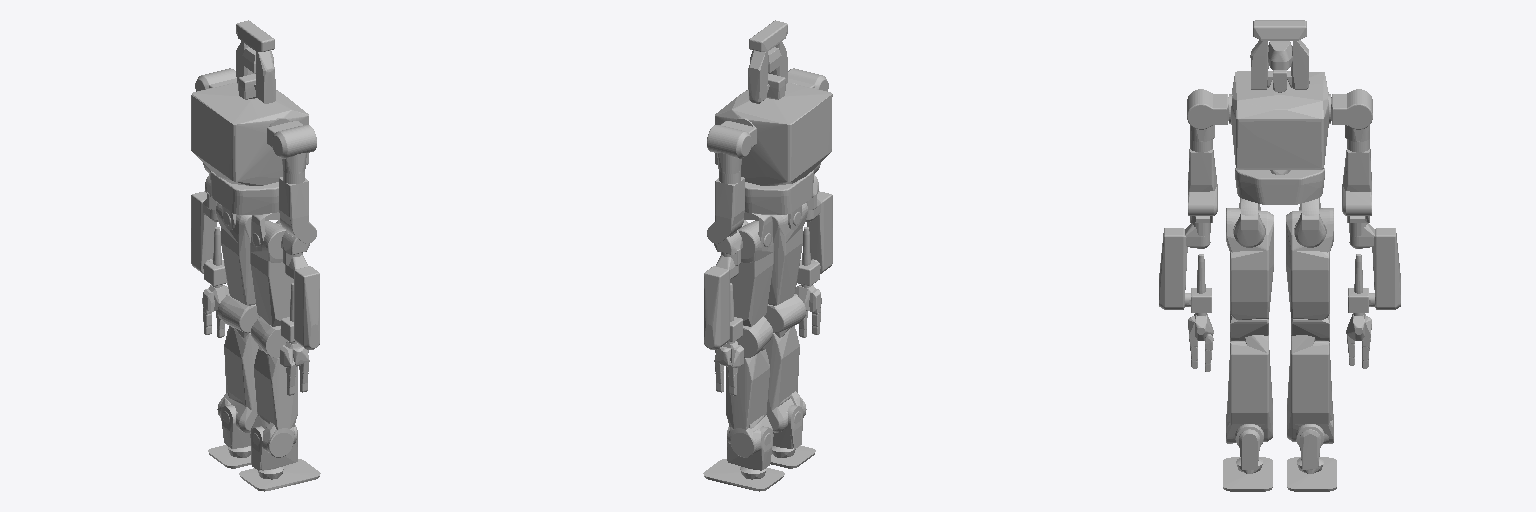
--- Facts derived from the render (not from the file) ---
3 views of the same robot in one strip: view 1: azimuth 30°, elevation 25°; view 2: azimuth 150°, elevation 25°; view 3: azimuth 270°, elevation 25° (orthographic).
Model drchubo with 52 links and 51 joints (51 revolute), rooted at Body_TSY, posed all joints at 0.
Visible links, largest first — view 1: Body_Torso, Body_RHP, Body_LHP, Body_RKP, Body_LKP, Body_RAR, Body_RWY, Body_NK1, Body_TSY, Body_RSY, Body_LWY, Body_RSP (+5 smaller); view 2: Body_Torso, Body_LHP, Body_RHP, Body_LKP, Body_RKP, Body_LAR, Body_LWY, Body_NK1, Body_TSY, Body_LSY, Body_RWY, Body_LSP (+5 smaller); view 3: Body_Torso, Body_LHP, Body_RHP, Body_RKP, Body_LKP, Body_TSY, Body_NK1, Body_LWY, Body_RWY, Body_RAR, Body_LAR, Body_LSY (+10 smaller).
Link boxes in pixels (<box>): Body_Torso: <box>191,82,308,185</box>; Body_RHP: <box>250,221,293,357</box>; Body_LHP: <box>216,203,259,332</box>; Body_RKP: <box>251,345,297,457</box>; Body_LKP: <box>217,326,258,432</box>; Body_RAR: <box>239,425,320,491</box>; Body_RWY: <box>285,255,319,349</box>; Body_NK1: <box>236,20,275,103</box>; Body_TSY: <box>210,170,278,214</box>; Body_RSY: <box>279,171,316,243</box>; Body_LWY: <box>191,191,217,273</box>; Body_RSP: <box>267,118,316,158</box>; Body_Torso: <box>715,83,832,185</box>; Body_LHP: <box>730,221,773,357</box>; Body_RHP: <box>764,203,807,332</box>; Body_LKP: <box>726,345,772,457</box>; Body_RKP: <box>765,326,806,432</box>; Body_LAR: <box>703,426,784,491</box>; Body_LWY: <box>704,255,738,349</box>; Body_NK1: <box>748,20,787,103</box>; Body_TSY: <box>745,170,813,214</box>; Body_LSY: <box>707,171,744,243</box>; Body_RWY: <box>806,191,832,273</box>; Body_LSP: <box>707,118,756,158</box>; Body_Torso: <box>1231,71,1328,174</box>; Body_LHP: <box>1286,208,1333,341</box>; Body_RHP: <box>1226,208,1273,341</box>; Body_RKP: <box>1226,335,1272,443</box>; Body_LKP: <box>1287,335,1333,443</box>; Body_TSY: <box>1235,168,1324,204</box>; Body_NK1: <box>1250,20,1309,89</box>; Body_LWY: <box>1349,223,1400,309</box>; Body_RWY: <box>1159,223,1210,309</box>; Body_RAR: <box>1223,429,1272,491</box>; Body_LAR: <box>1287,429,1336,491</box>; Body_LSY: <box>1342,139,1371,215</box>.
Size in the robot's own frame: 0.2911 by 0.707 by 1.44 metres.
Meshes: 37 distinct files referenced, 52 mesh visuals loaded (37 binary STL).

robot.urdf — drchubo:
<robot name="drchubo">
    <link name="Body_Torso">
        <inertial>
            <origin rpy="0 0 0" xyz="0.00186303110078396 -0.000700932863027737 0.144864941081362" />
            <mass value="8.95351612283643" />
            <inertia ixx="0.097115701663788" ixy="-0.000131502652256357" ixz="-0.000536351319855448" iyy="0.0782182891825729" iyz="0.000190893230363873" izz="0.102805257612153" />
        </inertial>
        <visual>
            <origin rpy="0 0 0" xyz="0 0 0" />
            <geometry>
                <mesh filename="package://drchubo/meshes/convhull_Torso_merged.stl" />
            </geometry>
            <material name="">
                <color rgba="0.752941176470588 0.752941176470588 0.752941176470588 1" />
            </material>
        </visual>
        <collision>
            <origin rpy="0 0 0" xyz="0 0 0" />
            <geometry>
                <mesh filename="package://drchubo/meshes/convhull_Torso_merged.stl" />
            </geometry>
        </collision>
    </link>
    <link name="Body_LSP">
        <inertial>
            <origin rpy="0 0 0" xyz="0.0125095477277756 0.0682567187642331 -0.000101296692959801" />
            <mass value="0.512814669817052" />
            <inertia ixx="0.00105971934903801" ixy="0.000159674623034314" ixz="-8.62192186714616E-07" iyy="0.00101602821932241" iyz="6.2966884306785E-06" izz="0.00161449029531154" />
        </inertial>
        <visual>
            <origin rpy="0 0 0" xyz="0 0 0" />
            <geometry>
                <mesh filename="package://drchubo/meshes/convhull_LSP_merged.stl" />
            </geometry>
            <material name="">
                <color rgba="0.752941176470588 0.752941176470588 0.752941176470588 1" />
            </material>
        </visual>
        <collision>
            <origin rpy="0 0 0" xyz="0 0 0" />
            <geometry>
                <mesh filename="package://drchubo/meshes/convhull_LSP_merged.stl" />
            </geometry>
        </collision>
    </link>
    <joint name="LSP" type="revolute">
        <origin rpy="-0 0 -0" xyz="0.0010 0.1305 0.2061" />
        <parent link="Body_Torso" />
        <child link="Body_LSP" />
        <axis xyz="0 1 0" />
        <limit effort="100.0" lower="-3.14" upper="3.14" velocity="10.0" />
    </joint>
    <link name="Body_LSR">
        <inertial>
            <origin rpy="0 0 0" xyz="-0.0353989625513559 -0.000442459951967733 -0.0177626332998561" />
            <mass value="0.478101234588499" />
            <inertia ixx="0.000470991608414918" ixy="-9.0901553039533E-08" ixz="-1.21957572289795E-05" iyy="0.00056865982747998" iyz="7.94197935321249E-06" izz="0.000377112142444654" />
        </inertial>
        <visual>
            <origin rpy="0 0 0" xyz="0 0 0" />
            <geometry>
                <mesh filename="package://drchubo/meshes/convhull_LSR_merged.stl" />
            </geometry>
            <material name="">
                <color rgba="0.752941176470588 0.752941176470588 0.752941176470588 1" />
            </material>
        </visual>
        <collision>
            <origin rpy="0 0 0" xyz="0 0 0" />
            <geometry>
                <mesh filename="package://drchubo/meshes/convhull_LSR_merged.stl" />
            </geometry>
        </collision>
    </link>
    <joint name="LSR" type="revolute">
        <origin rpy="0 0 0" xyz="0.033 0.099 0" />
        <parent link="Body_LSP" />
        <child link="Body_LSR" />
        <axis xyz="1 0 0" />
        <limit effort="100.0" lower="-.262" upper="3.14" velocity="10.0" />
    </joint>
    <link name="Body_LSY">
        <inertial>
            <origin rpy="0 0 0" xyz="0.00596307108671425 -0.00223165835990308 -0.16200994741112" />
            <mass value="1.35206539449553" />
            <inertia ixx="0.0134777313253687" ixy="-2.51384514257897E-05" ixz="-0.000850780329961022" iyy="0.0134238053664017" iyz="0.000270964573540381" izz="0.00109460289061941" />
        </inertial>
        <visual>
            <origin rpy="0 0 0" xyz="0 0 0" />
            <geometry>
                <mesh filename="package://drchubo/meshes/convhull_LSY_merged.stl" />
            </geometry>
            <material name="">
                <color rgba="0.752941176470588 0.752941176470588 0.752941176470588 1" />
            </material>
        </visual>
        <collision>
            <origin rpy="0 0 0" xyz="0 0 0" />
            <geometry>
                <mesh filename="package://drchubo/meshes/convhull_LSY_merged.stl" />
            </geometry>
        </collision>
    </link>
    <joint name="LSY" type="revolute">
        <origin rpy="0 0 0" xyz="-0.0330 0 -0.0270" />
        <parent link="Body_LSR" />
        <child link="Body_LSY" />
        <axis xyz="0 0 1" />
        <limit effort="100.0" lower="-2" upper="3.14" velocity="10.0" />
    </joint>
    <link name="Body_LEP">
        <inertial>
            <origin rpy="0 0 0" xyz="-0.02571445335908 0.000806178520288664 -0.0417853587164666" />
            <mass value="0.267758871202315" />
            <inertia ixx="0.000341774590608957" ixy="-8.94704764293737E-07" ixz="5.48147249702E-05" iyy="0.000322402837807457" iyz="2.93006728475972E-06" izz="0.000239480055722266" />
        </inertial>
        <visual>
            <origin rpy="0 0 0" xyz="0 0 0" />
            <geometry>
                <mesh filename="package://drchubo/meshes/convhull_LEP_merged.stl" />
            </geometry>
            <material name="">
                <color rgba="0.752941176470588 0.752941176470588 0.752941176470588 1" />
            </material>
        </visual>
        <collision>
            <origin rpy="0 0 0" xyz="0 0 0" />
            <geometry>
                <mesh filename="package://drchubo/meshes/convhull_LEP_merged.stl" />
            </geometry>
        </collision>
    </link>
    <joint name="LEP" type="revolute">
        <origin rpy="0 0 0" xyz="0.0300 0.000 -0.2730" />
        <parent link="Body_LSY" />
        <child link="Body_LEP" />
        <axis xyz="0 1 0" />
        <limit effort="100.0" lower="-2.96" upper=".2" velocity="10.0" />
    </joint>
    <link name="Body_LWY">
        <inertial>
            <origin rpy="0 0 0" xyz="3.99379011692602E-05 0.0577379856357585 -0.151718765023044" />
            <mass value="1.37072161761866" />
            <inertia ixx="0.0138917492745533" ixy="-3.54251778004189E-06" ixz="7.9309444806889E-06" iyy="0.0118173705529259" iyz="-0.00394273246628464" izz="0.00267824831844074" />
        </inertial>
        <visual>
            <origin rpy="0 0 0" xyz="0 0 0" />
            <geometry>
                <mesh filename="package://drchubo/meshes/convhull_LWY_merged.stl" />
            </geometry>
            <material name="">
                <color rgba="0.752941176470588 0.752941176470588 0.752941176470588 1" />
            </material>
        </visual>
        <collision>
            <origin rpy="0 0 0" xyz="0 0 0" />
            <geometry>
                <mesh filename="package://drchubo/meshes/convhull_LWY_merged.stl" />
            </geometry>
        </collision>
    </link>
    <joint name="LWY" type="revolute">
        <origin rpy="0 0 0" xyz="-0.0300 0 -0.0520" />
        <parent link="Body_LEP" />
        <child link="Body_LWY" />
        <axis xyz="0 0 1" />
        <limit effort="100.0" lower="-3.14" upper="3.14" velocity="10.0" />
    </joint>
    <link name="Body_LWP">
        <inertial>
            <origin rpy="0 0 0" xyz="-0.000378739071217597 0.0108882434913045 0.0170093706107317" />
            <mass value="0.294902574333316" />
            <inertia ixx="0.000715165417977553" ixy="-1.51543969240671E-06" ixz="-4.37551165446012E-06" iyy="0.000574579884042658" iyz="-5.5583549065965E-05" izz="0.000301632100473859" />
        </inertial>
        <visual>
            <origin rpy="0 0 0" xyz="0 0 0" />
            <geometry>
                <mesh filename="package://drchubo/meshes/convhull_LWP_merged.stl" />
            </geometry>
            <material name="">
                <color rgba="0.752941176470588 0.752941176470588 0.752941176470588 1" />
            </material>
        </visual>
        <collision>
            <origin rpy="0 0 0" xyz="0 0 0" />
            <geometry>
                <mesh filename="package://drchubo/meshes/convhull_LWP_merged.stl" />
            </geometry>
        </collision>
    </link>
    <joint name="LWP" type="revolute">
        <origin rpy="0 0 0" xyz="0 0 -0.2618" />
        <parent link="Body_LWY" />
        <child link="Body_LWP" />
        <axis xyz="0 1 0" />
        <limit effort="100.0" lower="-3.14" upper="3.14" velocity="10.0" />
    </joint>
    <link name="Body_LWR">
        <inertial>
            <origin rpy="0 0 0" xyz="0.00526734472242982 -0.00165481505247564 -0.0476967183846567" />
            <mass value="0.474006924726537" />
            <inertia ixx="0.000397832341494148" ixy="2.62847439473878E-06" ixz="-1.84132721696329E-05" iyy="0.000310585574870465" iyz="-5.74611340451118E-06" izz="0.000251799615334244" />
        </inertial>
        <visual>
            <origin rpy="0 0 0" xyz="0 0 0" />
            <geometry>
                <mesh filename="package://drchubo/meshes/convhull_LWR_merged.stl" />
            </geometry>
            <material name="">
                <color rgba="0.752941176470588 0.752941176470588 0.752941176470588 1" />
            </material>
        </visual>
        <collision>
            <origin rpy="0 0 0" xyz="0 0 0" />
            <geometry>
                <mesh filename="package://drchubo/meshes/convhull_LWR_merged.stl" />
            </geometry>
        </collision>
    </link>
    <joint name="LWR" type="revolute">
        <origin rpy="0 0 1.57079632679" xyz="0 0 -0.0275" />
        <parent link="Body_LWP" />
        <child link="Body_LWR" />
        <axis xyz="0 0 1" />
        <limit effort="100.0" lower="-3.14" upper="3.14" velocity="10.0" />
    </joint>

    <link name="Body_LF11">
        <inertial>
            <origin rpy="0 0 0" xyz="4.08082421144568E-06 -0.0103654579068141 -0.0223572146583746" />
            <mass value="0.0209635645691505" />
            <inertia ixx="5.79877083007342E-06" ixy="-3.61896654972963E-09" ixz="2.45166522675331E-07" iyy="6.02432212425641E-06" iyz="1.21167394757334E-09" izz="1.78245355770108E-06" />
        </inertial>
        <visual>
            <origin rpy="0 0 0" xyz="0 0 0" />
            <geometry>
                <mesh filename="package://drchubo/meshes/convhull_LF1.stl" />
            </geometry>
            <material name="">
                <color rgba="0.752941176470588 0.752941176470588 0.752941176470588 1" />
            </material>
        </visual>
        <collision>
            <origin rpy="0 0 0" xyz="0 0 0" />
            <geometry>
                <mesh filename="package://drchubo/meshes/convhull_LF1.stl" />
            </geometry>
        </collision>
    </link>
    <joint name="LF11" type="revolute">
        <origin rpy="0 0 0" xyz="0.0230 -0.0120 -0.0755" />
        <parent link="Body_LWR" />
        <child link="Body_LF11" />
        <axis xyz="0 1 0" />
        <limit effort="10.0" lower="-1.5" upper=".1" velocity="2.0" />
    </joint>
    <link name="Body_LF12">
        <inertial>
            <origin rpy="0 0 0" xyz="0.000130946971760824 0.000226771833385403 -0.0135375370531412" />
            <mass value="0.0121177256078384" />
            <inertia ixx="2.50372945957958E-06" ixy="-2.32805891508231E-09" ixz="5.14105106916585E-08" iyy="2.26813369660349E-06" iyz="-4.92964124837522E-09" izz="1.22101156825522E-06" />
        </inertial>
        <visual>
            <origin rpy="0 0 0" xyz="0 0 0" />
            <geometry>
                <mesh filename="package://drchubo/meshes/convhull_LF2.stl" />
            </geometry>
            <material name="">
                <color rgba="0.752941176470588 0.752941176470588 0.752941176470588 1" />
            </material>
        </visual>
        <collision>
            <origin rpy="0 0 0" xyz="0 0 0" />
            <geometry>
                <mesh filename="package://drchubo/meshes/convhull_LF2.stl" />
            </geometry>
        </collision>
    </link>
    <joint name="LF12" type="revolute">
        <origin rpy="0 0 0" xyz="-0.0020 -0.0105 -0.0420" />
        <parent link="Body_LF11" />
        <child link="Body_LF12" />
        <axis xyz="0 1 0" />
        <limit effort="10.0" lower="-1.5" upper=".1" velocity="2.0" />
    </joint>
    <link name="Body_LF13">
        <inertial>
            <origin rpy="0 0 0" xyz="0.000169386130301579 0.000356898419659246 -0.0163165219752076" />
            <mass value="0.0163435127658012" />
            <inertia ixx="2.35338373719888E-06" ixy="-4.4210418009567E-09" ixz="1.38024261681812E-07" iyy="2.40973096927305E-06" iyz="-2.82215020077362E-08" izz="9.69758896639509E-07" />
        </inertial>
        <visual>
            <origin rpy="0 0 0" xyz="0 0 0" />
            <geometry>
                <mesh filename="package://drchubo/meshes/convhull_LF3.stl" />
            </geometry>
            <material name="">
                <color rgba="0.752941176470588 0.752941176470588 0.752941176470588 1" />
            </material>
        </visual>
        <collision>
            <origin rpy="0 0 0" xyz="0 0 0" />
            <geometry>
                <mesh filename="package://drchubo/meshes/convhull_LF3.stl" />
            </geometry>
        </collision>
    </link>
    <joint name="LF13" type="revolute">
        <origin rpy="0 0 0" xyz="-0.0014 0 -0.0300" />
        <parent link="Body_LF12" />
        <child link="Body_LF13" />
        <axis xyz="0 1 0" />
        <limit effort="10.0" lower="-1.5" upper=".1" velocity="2.0" />
    </joint>
    <link name="Body_TSY">
        <inertial>
            <origin rpy="0 0 0" xyz="-0.0160702033923426 -0.00217130156788575 -0.0329438544914258" />
            <mass value="3.85811444190788" />
            <inertia ixx="0.0199734074242983" ixy="-0.00013227939476964" ixz="0.00017668619158262" iyy="0.0085778641786012" iyz="0.000147644598532384" izz="0.0237690845804838" />
        </inertial>
        <visual>
            <origin rpy="0 0 0" xyz="0 0 0" />
            <geometry>
                <mesh filename="package://drchubo/meshes/convhull_TSY_merged.stl" />
            </geometry>
            <material name="">
                <color rgba="0.752941176470588 0.752941176470588 0.752941176470588 1" />
            </material>
        </visual>
        <collision>
            <origin rpy="0 0 0" xyz="0 0 0" />
            <geometry>
                <mesh filename="package://drchubo/meshes/convhull_TSY_merged.stl" />
            </geometry>
        </collision>
    </link>
    <joint name="TSY" type="revolute">
        <origin rpy="0 0 0" xyz="0 0 0" />
        <parent link="Body_TSY" />
        <child link="Body_Torso" />
        <axis xyz="0 0 1" />
        <limit effort="100.0" lower="-1.57" upper="1.57" velocity="10.0" />
    </joint>
    <link name="Body_LHY">
        <inertial>
            <origin rpy="0 0 0" xyz="0.0378123600719454 2.54097696217315E-08 -0.116128242308007" />
            <mass value="1.02665437743596" />
            <inertia ixx="0.00249606232939035" ixy="-2.76272075666202E-09" ixz="-0.000829704581049298" iyy="0.00377324783994803" iyz="5.79132768620233E-10" izz="0.0021281978106318" />
        </inertial>
        <visual>
            <origin rpy="0 0 0" xyz="0 0 0" />
            <geometry>
                <mesh filename="package://drchubo/meshes/convhull_LHY_merged.stl" />
            </geometry>
            <material name="">
                <color rgba="0.752941176470588 0.752941176470588 0.752941176470588 1" />
            </material>
        </visual>
        <collision>
            <origin rpy="0 0 0" xyz="0 0 0" />
            <geometry>
                <mesh filename="package://drchubo/meshes/convhull_LHY_merged.stl" />
            </geometry>
        </collision>
    </link>
    <joint name="LHY" type="revolute">
        <origin rpy="0 0 0" xyz="0 0.0885 -0.0230" />
        <parent link="Body_TSY" />
        <child link="Body_LHY" />
        <axis xyz="0 0 1" />
        <limit effort="100.0" lower="-1.92" upper="1.92" velocity="10.0" />
    </joint>
    <link name="Body_LHR">
        <inertial>
            <origin rpy="0 0 0" xyz="0.00473723996484245 -0.00482931760302879 -0.0325563692830159" />
            <mass value="1.37473370900606" />
            <inertia ixx="0.00222021321390697" ixy="3.01344959315266E-05" ixz="0.000214745489876361" iyy="0.00208177057868792" iyz="6.99363261903671E-05" izz="0.00174245289623185" />
        </inertial>
        <visual>
            <origin rpy="0 0 0" xyz="0 0 0" />
            <geometry>
                <mesh filename="package://drchubo/meshes/convhull_LHR_merged.stl" />
            </geometry>
            <material name="">
                <color rgba="0.752941176470588 0.752941176470588 0.752941176470588 1" />
            </material>
        </visual>
        <collision>
            <origin rpy="0 0 0" xyz="0 0 0" />
            <geometry>
                <mesh filename="package://drchubo/meshes/convhull_LHR_merged.stl" />
            </geometry>
        </collision>
    </link>
    <joint name="LHR" type="revolute">
        <origin rpy="0 0 0" xyz="0 0 -0.1410" />
        <parent link="Body_LHY" />
        <child link="Body_LHR" />
        <axis xyz="1 0 0" />
        <limit effort="100.0" lower="-0.52" upper="0.52" velocity="10.0" />
    </joint>
    <link name="Body_LHP">
        <inertial>
            <origin rpy="0 0 0" xyz="0.0139820973756429 0.0119128547059099 -0.190050892707924" />
            <mass value="3.39708806380558" />
            <inertia ixx="0.0610144402594715" ixy="-0.000679183163268319" ixz="-0.00115726366946058" iyy="0.0588960128286437" iyz="0.00381190200425667" izz="0.00864106131257887" />
        </inertial>
        <visual>
            <origin rpy="0 0 0" xyz="0 0 0" />
            <geometry>
                <mesh filename="package://drchubo/meshes/convhull_LHP_merged.stl" />
            </geometry>
            <material name="">
                <color rgba="0.752941176470588 0.752941176470588 0.752941176470588 1" />
            </material>
        </visual>
        <collision>
            <origin rpy="0 0 0" xyz="0 0 0" />
            <geometry>
                <mesh filename="package://drchubo/meshes/convhull_LHP_merged.stl" />
            </geometry>
        </collision>
    </link>
    <joint name="LHP" type="revolute">
        <origin rpy="0 0 0" xyz="0 0 0" />
        <parent link="Body_LHR" />
        <child link="Body_LHP" />
        <axis xyz="0 1 0" />
        <limit effort="100.0" lower="-1.87" upper="1.61" velocity="10.0" />
    </joint>
    <link name="Body_LKP">
        <inertial>
            <origin rpy="0 0 0" xyz="0.0167128425968244 -0.00423174064898188 -0.163547981620547" />
            <mass value="1.2513314922159" />
            <inertia ixx="0.0176853262863822" ixy="5.97588040758602E-05" ixz="0.000242087956452148" iyy="0.0161941871476601" iyz="2.05953671058067E-05" izz="0.00355046513294474" />
        </inertial>
        <visual>
            <origin rpy="0 0 0" xyz="0 0 0" />
            <geometry>
                <mesh filename="package://drchubo/meshes/convhull_LKP_merged.stl" />
            </geometry>
            <material name="">
                <color rgba="0.752941176470588 0.752941176470588 0.752941176470588 1" />
            </material>
        </visual>
        <collision>
            <origin rpy="0 0 0" xyz="0 0 0" />
            <geometry>
                <mesh filename="package://drchubo/meshes/convhull_LKP_merged.stl" />
            </geometry>
        </collision>
    </link>
    <joint name="LKP" type="revolute">
        <origin rpy="0 0 0" xyz="0 0 -0.3299" />
        <parent link="Body_LHP" />
        <child link="Body_LKP" />
        <axis xyz="0 1 0" />
        <limit effort="100.0" lower="-0.07" upper="2.61" velocity="10.0" />
    </joint>
    <link name="Body_LAP">
        <inertial>
            <origin rpy="0 0 0" xyz="0.0148223972690647 0.0100562738748088 0.00997467775305361" />
            <mass value="2.00597218062827" />
            <inertia ixx="0.00317573590934402" ixy="-0.00030397733226894" ixz="-0.000298327569678596" iyy="0.00347243568780368" iyz="-0.000320093631728957" izz="0.0036796574607068" />
        </inertial>
        <visual>
            <origin rpy="0 0 0" xyz="0 0 0" />
            <geometry>
                <mesh filename="package://drchubo/meshes/convhull_LAP_merged.stl" />
            </geometry>
            <material name="">
                <color rgba="0.752941176470588 0.752941176470588 0.752941176470588 1" />
            </material>
        </visual>
        <collision>
            <origin rpy="0 0 0" xyz="0 0 0" />
            <geometry>
                <mesh filename="package://drchubo/meshes/convhull_LAP_merged.stl" />
            </geometry>
        </collision>
    </link>
    <joint name="LAP" type="revolute">
        <origin rpy="0 0 0" xyz="0 0 -0.3300" />
        <parent link="Body_LKP" />
        <child link="Body_LAP" />
        <axis xyz="0 1 0" />
        <limit effort="100.0" lower="-1.7" upper="1.7" velocity="10.0" />
    </joint>
    <link name="Body_LAR">
        <inertial>
            <origin rpy="0 0 0" xyz="0.0165455008793805 0.00216085982209592 -0.0952915062130097" />
            <mass value="1.06815376654094" />
            <inertia ixx="0.00372790935829238" ixy="3.13391462968031E-05" ixz="-0.000480888102685697" iyy="0.00607005664613535" iyz="-9.42514897869005E-05" izz="0.00420512438203011" />
        </inertial>
        <visual>
            <origin rpy="0 0 0" xyz="0 0 0" />
            <geometry>
                <mesh filename="package://drchubo/meshes/convhull_LAR_merged.stl" />
            </geometry>
            <material name="">
                <color rgba="0.752941176470588 0.752941176470588 0.752941176470588 1" />
            </material>
        </visual>
        <collision>
            <origin rpy="0 0 0" xyz="0 0 0" />
            <geometry>
                <mesh filename="package://drchubo/meshes/convhull_LAR_merged.stl" />
            </geometry>
        </collision>
    </link>
    <joint name="LAR" type="revolute">
        <origin rpy="0 0 0" xyz="0 0 0" />
        <parent link="Body_LAP" />
        <child link="Body_LAR" />
        <axis xyz="1 0 0" />
        <limit effort="100.0" lower="-1.57" upper="1.57" velocity="10.0" />
    </joint>
    <link name="Body_NKY">
        <inertial>
            <origin rpy="0 0 0" xyz="-0.0132341759354885 -0.000264833073564218 0.0409690989083223" />
            <mass value="0.170508153365938" />
            <inertia ixx="0.000101054047458944" ixy="-6.00968902822632E-07" ixz="-2.18923858832909E-06" iyy="0.000105642534003898" iyz="5.06882999846784E-07" izz="0.000105863654255542" />
        </inertial>
        <visual>
            <origin rpy="0 0 0" xyz="0 0 0" />
            <geometry>
                <mesh filename="package://drchubo/meshes/convhull_NKY_merged.stl" />
            </geometry>
            <material name="">
                <color rgba="0.752941176470588 0.752941176470588 0.752941176470588 1" />
            </material>
        </visual>
        <collision>
            <origin rpy="0 0 0" xyz="0 0 0" />
            <geometry>
                <mesh filename="package://drchubo/meshes/convhull_NKY_merged.stl" />
            </geometry>
        </collision>
    </link>
    <joint name="NKY" type="revolute">
        <origin rpy="0 0 0" xyz="0.0010 0 0.2598" />
        <parent link="Body_Torso" />
        <child link="Body_NKY" />
        <axis xyz="0 0 1" />
        <limit effort="10.0" lower="-2" upper="2" velocity="10.0" />
    </joint>
    <link name="Body_NK1">
        <inertial>
            <origin rpy="0 0 0" xyz="-0.000519835312274866 -0.112505098178575 -9.33147645172232E-05" />
            <mass value="0.657803087875364" />
            <inertia ixx="0.00461193404989021" ixy="2.06037288507875E-05" ixz="-3.18942823947151E-08" iyy="0.00189695830911958" iyz="8.9775768045783E-05" izz="0.00293465680409193" />
        </inertial>
        <visual>
            <origin rpy="0 0 0" xyz="0 0 0" />
            <geometry>
                <mesh filename="package://drchubo/meshes/convhull_NK1_merged.stl" />
            </geometry>
            <material name="">
                <color rgba="0.752941176470588 0.752941176470588 0.752941176470588 1" />
            </material>
        </visual>
        <collision>
            <origin rpy="0 0 0" xyz="0 0 0" />
            <geometry>
                <mesh filename="package://drchubo/meshes/convhull_NK1_merged.stl" />
            </geometry>
        </collision>
    </link>
    <joint name="NK1" type="revolute">
        <origin rpy="-1.5707963267949 0 0" xyz="0 0 0.0298" />
        <parent link="Body_NKY" />
        <child link="Body_NK1" />
        <axis xyz="0 0 1" />
        <limit effort="10.0" lower="-2" upper="2" velocity="10.0" />
    </joint>
    <link name="Body_NK2">
        <inertial>
            <origin rpy="0 0 0" xyz="0.00619110883708962 0.000180362999792852 -0.00925441765145953" />
            <mass value="0.250303289297233" />
            <inertia ixx="0.000202848165255698" ixy="-2.85613884397634E-07" ixz="4.4023872954844E-06" iyy="0.000189595993252901" iyz="4.2100514679016E-07" izz="0.000145991865917545" />
        </inertial>
        <visual>
            <origin rpy="0 0 0" xyz="0 0 0" />
            <geometry>
                <mesh filename="package://drchubo/meshes/convhull_NK2.stl" />
            </geometry>
            <material name="">
                <color rgba="0.752941176470588 0.752941176470588 0.752941176470588 1" />
            </material>
        </visual>
        <collision>
            <origin rpy="0 0 0" xyz="0 0 0" />
            <geometry>
                <mesh filename="package://drchubo/meshes/convhull_NK2.stl" />
            </geometry>
        </collision>
    </link>
    <joint name="NK2" type="revolute">
        <origin rpy="1.5707963267949 0 -1.5707963267949" xyz="0 -0.0860 0" />
        <parent link="Body_NK1" />
        <child link="Body_NK2" />
        <axis xyz="0 1 0" />
        <limit effort="10.0" lower="-2" upper="2" velocity="10.0" />
    </joint>

    <link name="Body_LF21">
        <inertial>
            <origin rpy="0 0 0" xyz="4.08082421144568E-06 -0.0103654579068141 -0.0223572146583746" />
            <mass value="0.0209635645691505" />
            <inertia ixx="5.79877083007342E-06" ixy="-3.61896654972963E-09" ixz="2.45166522675331E-07" iyy="6.02432212425641E-06" iyz="1.21167394757334E-09" izz="1.78245355770108E-06" />
        </inertial>
        <visual>
            <origin rpy="0 0 0" xyz="0 0 0" />
            <geometry>
                <mesh filename="package://drchubo/meshes/convhull_LF1.stl" />
            </geometry>
            <material name="">
                <color rgba="0.752941176470588 0.752941176470588 0.752941176470588 1" />
            </material>
        </visual>
        <collision>
            <origin rpy="0 0 0" xyz="0 0 0" />
            <geometry>
                <mesh filename="package://drchubo/meshes/convhull_LF1.stl" />
            </geometry>
        </collision>
    </link>
    <joint name="LF21" type="revolute">
        <origin rpy="0 0 0" xyz="0.0230 0.0330 -0.0755" />
        <parent link="Body_LWR" />
        <child link="Body_LF21" />
        <axis xyz="0 1 0" />
        <limit effort="10.0" lower="-1.5" upper=".1" velocity="2.0" />
    </joint>
    <link name="Body_LF22">
        <inertial>
            <origin rpy="0 0 0" xyz="0.000130946971760824 0.000226771833385403 -0.0135375370531412" />
            <mass value="0.0121177256078384" />
            <inertia ixx="2.50372945957958E-06" ixy="-2.32805891508231E-09" ixz="5.14105106916585E-08" iyy="2.26813369660349E-06" iyz="-4.92964124837522E-09" izz="1.22101156825522E-06" />
        </inertial>
        <visual>
            <origin rpy="0 0 0" xyz="0 0 0" />
            <geometry>
                <mesh filename="package://drchubo/meshes/convhull_LF2.stl" />
            </geometry>
            <material name="">
                <color rgba="0.752941176470588 0.752941176470588 0.752941176470588 1" />
            </material>
        </visual>
        <collision>
            <origin rpy="0 0 0" xyz="0 0 0" />
            <geometry>
                <mesh filename="package://drchubo/meshes/convhull_LF2.stl" />
            </geometry>
        </collision>
    </link>
    <joint name="LF22" type="revolute">
        <origin rpy="0 0 0" xyz="-0.0020 -0.0105 -0.0420" />
        <parent link="Body_LF21" />
        <child link="Body_LF22" />
        <axis xyz="0 1 0" />
        <limit effort="10.0" lower="-1.5" upper=".1" velocity="2.0" />
    </joint>
    <link name="Body_LF23">
        <inertial>
            <origin rpy="0 0 0" xyz="0.000169386130301579 0.000356898419659246 -0.0163165219752076" />
            <mass value="0.0163435127658012" />
            <inertia ixx="2.35338373719888E-06" ixy="-4.4210418009567E-09" ixz="1.38024261681812E-07" iyy="2.40973096927305E-06" iyz="-2.82215020077362E-08" izz="9.69758896639509E-07" />
        </inertial>
        <visual>
            <origin rpy="0 0 0" xyz="0 0 0" />
            <geometry>
                <mesh filename="package://drchubo/meshes/convhull_LF3.stl" />
            </geometry>
            <material name="">
                <color rgba="0.752941176470588 0.752941176470588 0.752941176470588 1" />
            </material>
        </visual>
        <collision>
            <origin rpy="0 0 0" xyz="0 0 0" />
            <geometry>
                <mesh filename="package://drchubo/meshes/convhull_LF3.stl" />
            </geometry>
        </collision>
    </link>
    <joint name="LF23" type="revolute">
        <origin rpy="0 0 0" xyz="-0.0014 0 -0.0300" />
        <parent link="Body_LF22" />
        <child link="Body_LF23" />
        <axis xyz="0 1 0" />
        <limit effort="10.0" lower="-1.5" upper=".1" velocity="2.0" />
    </joint>


    <link name="Body_LF31">
        <inertial>
            <origin rpy="0 0 0" xyz="4.08082421144568E-06 -0.0103654579068141 -0.0223572146583746" />
            <mass value="0.0209635645691505" />
            <inertia ixx="5.79877083007342E-06" ixy="-3.61896654972963E-09" ixz="2.45166522675331E-07" iyy="6.02432212425641E-06" iyz="1.21167394757334E-09" izz="1.78245355770108E-06" />
        </inertial>
        <visual>
            <origin rpy="0 0 0" xyz="0 0 0" />
            <geometry>
                <mesh filename="package://drchubo/meshes/convhull_LF1.stl" />
            </geometry>
            <material name="">
                <color rgba="0.752941176470588 0.752941176470588 0.752941176470588 1" />
            </material>
        </visual>
        <collision>
            <origin rpy="0 0 0" xyz="0 0 0" />
            <geometry>
                <mesh filename="package://drchubo/meshes/convhull_LF1.stl" />
            </geometry>
        </collision>
    </link>
    <joint name="LF31" type="revolute">
        <origin rpy="0 0 3.141592653589" xyz="-0.0230 -0.0105 -0.0755" />
        <parent link="Body_LWR" />
        <child link="Body_LF31" />
        <axis xyz="0 -1 0" />
        <limit effort="10.0" lower="-1.5" upper=".1" velocity="2.0" />
    </joint>
    <link name="Body_LF32">
        <inertial>
            <origin rpy="0 0 0" xyz="0.000130946971760824 0.000226771833385403 -0.0135375370531412" />
            <mass value="0.0121177256078384" />
            <inertia ixx="2.50372945957958E-06" ixy="-2.32805891508231E-09" ixz="5.14105106916585E-08" iyy="2.26813369660349E-06" iyz="-4.92964124837522E-09" izz="1.22101156825522E-06" />
        </inertial>
        <visual>
            <origin rpy="0 0 0" xyz="0 0 0" />
            <geometry>
                <mesh filename="package://drchubo/meshes/convhull_LF2.stl" />
            </geometry>
            <material name="">
                <color rgba="0.752941176470588 0.752941176470588 0.752941176470588 1" />
            </material>
        </visual>
        <collision>
            <origin rpy="0 0 0" xyz="0 0 0" />
            <geometry>
                <mesh filename="package://drchubo/meshes/convhull_LF2.stl" />
            </geometry>
        </collision>
    </link>
    <joint name="LF32" type="revolute">
        <origin rpy="0 0 0" xyz="-0.0020 -0.0105 -0.0420" />
        <parent link="Body_LF31" />
        <child link="Body_LF32" />
        <limit effort="10.0" lower="-1.5" upper=".1" velocity="2.0" />
    </joint>
    <link name="Body_LF33">
        <inertial>
            <origin rpy="0 0 0" xyz="0.000169386130301579 0.000356898419659246 -0.0163165219752076" />
            <mass value="0.0163435127658012" />
            <inertia ixx="2.35338373719888E-06" ixy="-4.4210418009567E-09" ixz="1.38024261681812E-07" iyy="2.40973096927305E-06" iyz="-2.82215020077362E-08" izz="9.69758896639509E-07" />
        </inertial>
        <visual>
            <origin rpy="0 0 0" xyz="0 0 0" />
            <geometry>
                <mesh filename="package://drchubo/meshes/convhull_LF3.stl" />
            </geometry>
            <material name="">
                <color rgba="0.752941176470588 0.752941176470588 0.752941176470588 1" />
            </material>
        </visual>
        <collision>
            <origin rpy="0 0 0" xyz="0 0 0" />
            <geometry>
                <mesh filename="package://drchubo/meshes/convhull_LF3.stl" />
            </geometry>
        </collision>
    </link>
    <joint name="LF33" type="revolute">
        <origin rpy="0 0 0" xyz="-0.0014 0 -0.0300" />
        <parent link="Body_LF32" />
        <child link="Body_LF33" />
        <axis xyz="0 -1 0" />
        <limit effort="10.0" lower="-1.5" upper=".1" velocity="2.0" />
    </joint>
    <link name="Body_RSP">
        <inertial>
            <origin rpy="-0 0 -0" xyz="0.0125095477277756 -0.068256718764233101 -0.00010129669295980101" />
            <mass value="0.512814669817052" />
            <inertia ixx="0.00105971934903801" ixy="-1.5967462303431400e-04" ixz="-8.62192186714616E-07" iyy="0.00101602821932241" iyz="-6.2966884306784996e-06" izz="0.00161449029531154" />
        </inertial>
        <visual>
            <origin rpy="-0 0 -0" xyz="0 -0 0" />
            <geometry>
                <mesh filename="package://drchubo/meshes/convhull_RSP_merged.stl" />
            </geometry>
            <material name="">
                <color rgba="0.752941176470588 0.752941176470588 0.752941176470588 1" />
            </material>
        </visual>
        <collision>
            <origin rpy="-0 0 -0" xyz="0 -0 0" />
            <geometry>
                <mesh filename="package://drchubo/meshes/convhull_RSP_merged.stl" />
            </geometry>
        </collision>
    </link>
    <link name="Body_RSR">
        <inertial>
            <origin rpy="-0 0 -0" xyz="-0.035398962551355898 0.00044245995196773302 -0.017762633299856102" />
            <mass value="0.478101234588499" />
            <inertia ixx="0.000470991608414918" ixy="9.0901553039532995e-08" ixz="-1.21957572289795E-05" iyy="0.00056865982747998" iyz="-7.9419793532124904e-06" izz="0.000377112142444654" />
        </inertial>
        <visual>
            <origin rpy="-0 0 -0" xyz="0 -0 0" />
            <geometry>
                <mesh filename="package://drchubo/meshes/convhull_RSR_merged.stl" />
            </geometry>
            <material name="">
                <color rgba="0.752941176470588 0.752941176470588 0.752941176470588 1" />
            </material>
        </visual>
        <collision>
            <origin rpy="-0 0 -0" xyz="0 -0 0" />
            <geometry>
                <mesh filename="package://drchubo/meshes/convhull_RSR_merged.stl" />
            </geometry>
        </collision>
    </link>
    <link name="Body_RSY">
        <inertial>
            <origin rpy="-0 0 -0" xyz="0.0059630710867142498 0.0022316583599030801 -0.16200994741111999" />
            <mass value="1.35206539449553" />
            <inertia ixx="0.0134777313253687" ixy="2.5138451425789699e-05" ixz="-0.000850780329961022" iyy="0.0134238053664017" iyz="-2.7096457354038099e-04" izz="0.00109460289061941" />
        </inertial>
        <visual>
            <origin rpy="-0 0 -0" xyz="0 -0 0" />
            <geometry>
                <mesh filename="package://drchubo/meshes/convhull_RSY_merged.stl" />
            </geometry>
            <material name="">
                <color rgba="0.752941176470588 0.752941176470588 0.752941176470588 1" />
            </material>
        </visual>
        <collision>
            <origin rpy="-0 0 -0" xyz="0 -0 0" />
            <geometry>
                <mesh filename="package://drchubo/meshes/convhull_RSY_merged.stl" />
            </geometry>
        </collision>
    </link>
    <link name="Body_REP">
        <inertial>
            <origin rpy="-0 0 -0" xyz="-0.02571445335908 -0.00080617852028866399 -0.041785358716466603" />
            <mass value="0.267758871202315" />
            <inertia ixx="0.000341774590608957" ixy="8.9470476429373695e-07" ixz="5.48147249702E-05" iyy="0.000322402837807457" iyz="-2.9300672847597200e-06" izz="0.000239480055722266" />
        </inertial>
        <visual>
            <origin rpy="-0 0 -0" xyz="0 -0 0" />
            <geometry>
                <mesh filename="package://drchubo/meshes/convhull_REP_merged.stl" />
            </geometry>
            <material name="">
                <color rgba="0.752941176470588 0.752941176470588 0.752941176470588 1" />
            </material>
        </visual>
        <collision>
            <origin rpy="-0 0 -0" xyz="0 -0 0" />
            <geometry>
                <mesh filename="package://drchubo/meshes/convhull_REP_merged.stl" />
            </geometry>
        </collision>
    </link>
    <link name="Body_RWY">
        <inertial>
            <origin rpy="-0 0 -0" xyz="3.99379011692602E-05 -0.0577379856357585 -0.15171876502304399" />
            <mass value="1.37072161761866" />
            <inertia ixx="0.0138917492745533" ixy="3.5425177800418901e-06" ixz="7.9309444806889E-06" iyy="0.0118173705529259" iyz="3.9427324662846402e-03" izz="0.00267824831844074" />
        </inertial>
        <visual>
            <origin rpy="-0 0 -0" xyz="0 -0 0" />
            <geometry>
                <mesh filename="package://drchubo/meshes/convhull_RWY_merged.stl" />
            </geometry>
            <material name="">
                <color rgba="0.752941176470588 0.752941176470588 0.752941176470588 1" />
            </material>
        </visual>
        <collision>
            <origin rpy="-0 0 -0" xyz="0 -0 0" />
            <geometry>
                <mesh filename="package://drchubo/meshes/convhull_RWY_merged.stl" />
            </geometry>
        </collision>
    </link>
    <link name="Body_RWP">
        <inertial>
            <origin rpy="-0 0 -0" xyz="-0.00037873907121759699 -0.010888243491304499 0.017009370610731701" />
            <mass value="0.294902574333316" />
            <inertia ixx="0.000715165417977553" ixy="1.5154396924067100e-06" ixz="-4.37551165446012E-06" iyy="0.000574579884042658" iyz="5.5583549065965003e-05" izz="0.000301632100473859" />
        </inertial>
        <visual>
            <origin rpy="-0 0 -0" xyz="0 -0 0" />
            <geometry>
                <mesh filename="package://drchubo/meshes/convhull_RWP_merged.stl" />
            </geometry>
            <material name="">
                <color rgba="0.752941176470588 0.752941176470588 0.752941176470588 1" />
            </material>
        </visual>
        <collision>
            <origin rpy="-0 0 -0" xyz="0 -0 0" />
            <geometry>
                <mesh filename="package://drchubo/meshes/convhull_RWP_merged.stl" />
            </geometry>
        </collision>
    </link>
    <link name="Body_RWR">
        <inertial>
            <origin rpy="-0 0 -0" xyz="0.0052673447224298202 0.00165481505247564 -0.047696718384656701" />
            <mass value="0.474006924726537" />
            <inertia ixx="0.000397832341494148" ixy="-2.6284743947387800e-06" ixz="-1.84132721696329E-05" iyy="0.000310585574870465" iyz="5.7461134045111800e-06" izz="0.000251799615334244" />
        </inertial>
        <visual>
            <origin rpy="-0 0 -0" xyz="0 -0 0" />
            <geometry>
                <mesh filename="package://drchubo/meshes/convhull_RWR_merged.stl" />
            </geometry>
            <material name="">
                <color rgba="0.752941176470588 0.752941176470588 0.752941176470588 1" />
            </material>
        </visual>
        <collision>
            <origin rpy="-0 0 -0" xyz="0 -0 0" />
            <geometry>
                <mesh filename="package://drchubo/meshes/convhull_RWR_merged.stl" />
            </geometry>
        </collision>
    </link>
    <link name="Body_RF11">
        <inertial>
            <origin rpy="-0 0 -0" xyz="4.0808242114456797E-06 0.010365457906814099 -0.022357214658374602" />
            <mass value="0.0209635645691505" />
            <inertia ixx="5.79877083007342E-06" ixy="3.6189665497296299e-09" ixz="2.45166522675331E-07" iyy="6.02432212425641E-06" iyz="-1.2116739475733400e-09" izz="1.78245355770108E-06" />
        </inertial>
        <visual>
            <origin rpy="-0 0 -0" xyz="0 -0 0" />
            <geometry>
                <mesh filename="package://drchubo/meshes/convhull_RF1.stl" />
            </geometry>
            <material name="">
                <color rgba="0.752941176470588 0.752941176470588 0.752941176470588 1" />
            </material>
        </visual>
        <collision>
            <origin rpy="-0 0 -0" xyz="0 -0 0" />
            <geometry>
                <mesh filename="package://drchubo/meshes/convhull_RF1.stl" />
            </geometry>
        </collision>
    </link>
    <link name="Body_RF12">
        <inertial>
            <origin rpy="-0 0 -0" xyz="0.00013094697176082399 -0.00022677183338540299 -0.0135375370531412" />
            <mass value="0.0121177256078384" />
            <inertia ixx="2.50372945957958E-06" ixy="2.3280589150823100e-09" ixz="5.14105106916585E-08" iyy="2.26813369660349E-06" iyz="4.9296412483752203e-09" izz="1.22101156825522E-06" />
        </inertial>
        <visual>
            <origin rpy="-0 0 -0" xyz="0 -0 0" />
            <geometry>
                <mesh filename="package://drchubo/meshes/convhull_RF2.stl" />
            </geometry>
            <material name="">
                <color rgba="0.752941176470588 0.752941176470588 0.752941176470588 1" />
            </material>
        </visual>
        <collision>
            <origin rpy="-0 0 -0" xyz="0 -0 0" />
            <geometry>
                <mesh filename="package://drchubo/meshes/convhull_RF2.stl" />
            </geometry>
        </collision>
    </link>
    <link name="Body_RF13">
        <inertial>
            <origin rpy="-0 0 -0" xyz="0.00016938613030157901 -0.00035689841965924602 -0.016316521975207599" />
            <mass value="0.0163435127658012" />
            <inertia ixx="2.35338373719888E-06" ixy="4.4210418009567002e-09" ixz="1.38024261681812E-07" iyy="2.40973096927305E-06" iyz="2.8221502007736200e-08" izz="9.69758896639509E-07" />
        </inertial>
        <visual>
            <origin rpy="-0 0 -0" xyz="0 -0 0" />
            <geometry>
                <mesh filename="package://drchubo/meshes/convhull_RF3.stl" />
            </geometry>
            <material name="">
                <color rgba="0.752941176470588 0.752941176470588 0.752941176470588 1" />
            </material>
        </visual>
        <collision>
            <origin rpy="-0 0 -0" xyz="0 -0 0" />
            <geometry>
                <mesh filename="package://drchubo/meshes/convhull_RF3.stl" />
            </geometry>
        </collision>
    </link>
    <link name="Body_RHY">
        <inertial>
            <origin rpy="-0 0 -0" xyz="0.037812360071945397 -2.54097696217315E-08 -0.116128242308007" />
            <mass value="1.02665437743596" />
            <inertia ixx="0.00249606232939035" ixy="2.7627207566620200e-09" ixz="-0.000829704581049298" iyy="0.00377324783994803" iyz="-5.7913276862023304e-10" izz="0.0021281978106318" />
        </inertial>
        <visual>
            <origin rpy="-0 0 -0" xyz="0 -0 0" />
            <geometry>
                <mesh filename="package://drchubo/meshes/convhull_RHY_merged.stl" />
            </geometry>
            <material name="">
                <color rgba="0.752941176470588 0.752941176470588 0.752941176470588 1" />
            </material>
        </visual>
        <collision>
            <origin rpy="-0 0 -0" xyz="0 -0 0" />
            <geometry>
                <mesh filename="package://drchubo/meshes/convhull_RHY_merged.stl" />
            </geometry>
        </collision>
    </link>
    <link name="Body_RHR">
        <inertial>
            <origin rpy="-0 0 -0" xyz="0.0047372399648424497 0.0048293176030287897 -0.032556369283015897" />
            <mass value="1.37473370900606" />
            <inertia ixx="0.00222021321390697" ixy="-3.0134495931526598e-05" ixz="0.000214745489876361" iyy="0.00208177057868792" iyz="-6.9936326190367105e-05" izz="0.00174245289623185" />
        </inertial>
        <visual>
            <origin rpy="-0 0 -0" xyz="0 -0 0" />
            <geometry>
                <mesh filename="package://drchubo/meshes/convhull_RHR_merged.stl" />
            </geometry>
            <material name="">
                <color rgba="0.752941176470588 0.752941176470588 0.752941176470588 1" />
            </material>
        </visual>
        <collision>
            <origin rpy="-0 0 -0" xyz="0 -0 0" />
            <geometry>
                <mesh filename="package://drchubo/meshes/convhull_RHR_merged.stl" />
            </geometry>
        </collision>
    </link>
    <link name="Body_RHP">
        <inertial>
            <origin rpy="-0 0 -0" xyz="0.013982097375642899 -0.0119128547059099 -0.190050892707924" />
            <mass value="3.39708806380558" />
            <inertia ixx="0.0610144402594715" ixy="6.7918316326831898e-04" ixz="-0.00115726366946058" iyy="0.0588960128286437" iyz="-3.8119020042566699e-03" izz="0.00864106131257887" />
        </inertial>
        <visual>
            <origin rpy="-0 0 -0" xyz="0 -0 0" />
            <geometry>
                <mesh filename="package://drchubo/meshes/convhull_RHP_merged.stl" />
            </geometry>
            <material name="">
                <color rgba="0.752941176470588 0.752941176470588 0.752941176470588 1" />
            </material>
        </visual>
        <collision>
            <origin rpy="-0 0 -0" xyz="0 -0 0" />
            <geometry>
                <mesh filename="package://drchubo/meshes/convhull_RHP_merged.stl" />
            </geometry>
        </collision>
    </link>
    <link name="Body_RKP">
        <inertial>
            <origin rpy="-0 0 -0" xyz="0.016712842596824401 0.0042317406489818798 -0.16354798162054701" />
            <mass value="1.2513314922159" />
            <inertia ixx="0.0176853262863822" ixy="-5.9758804075860202e-05" ixz="0.000242087956452148" iyy="0.0161941871476601" iyz="-2.0595367105806700e-05" izz="0.00355046513294474" />
        </inertial>
        <visual>
            <origin rpy="-0 0 -0" xyz="0 -0 0" />
            <geometry>
                <mesh filename="package://drchubo/meshes/convhull_RKP_merged.stl" />
            </geometry>
            <material name="">
                <color rgba="0.752941176470588 0.752941176470588 0.752941176470588 1" />
            </material>
        </visual>
        <collision>
            <origin rpy="-0 0 -0" xyz="0 -0 0" />
            <geometry>
                <mesh filename="package://drchubo/meshes/convhull_RKP_merged.stl" />
            </geometry>
        </collision>
    </link>
    <link name="Body_RAP">
        <inertial>
            <origin rpy="-0 0 -0" xyz="0.0148223972690647 -0.010056273874808799 0.0099746777530536103" />
            <mass value="2.00597218062827" />
            <inertia ixx="0.00317573590934402" ixy="3.0397733226893999e-04" ixz="-0.000298327569678596" iyy="0.00347243568780368" iyz="3.2009363172895699e-04" izz="0.0036796574607068" />
        </inertial>
        <visual>
            <origin rpy="-0 0 -0" xyz="0 -0 0" />
            <geometry>
                <mesh filename="package://drchubo/meshes/convhull_RAP_merged.stl" />
            </geometry>
            <material name="">
                <color rgba="0.752941176470588 0.752941176470588 0.752941176470588 1" />
            </material>
        </visual>
        <collision>
            <origin rpy="-0 0 -0" xyz="0 -0 0" />
            <geometry>
                <mesh filename="package://drchubo/meshes/convhull_RAP_merged.stl" />
            </geometry>
        </collision>
    </link>
    <link name="Body_RAR">
        <inertial>
            <origin rpy="-0 0 -0" xyz="0.0165455008793805 -0.0021608598220959202 -0.095291506213009705" />
            <mass value="1.06815376654094" />
            <inertia ixx="0.00372790935829238" ixy="-3.1339146296803101e-05" ixz="-0.000480888102685697" iyy="0.00607005664613535" iyz="9.4251489786900507e-05" izz="0.00420512438203011" />
        </inertial>
        <visual>
            <origin rpy="-0 0 -0" xyz="0 -0 0" />
            <geometry>
                <mesh filename="package://drchubo/meshes/convhull_RAR_merged.stl" />
            </geometry>
            <material name="">
                <color rgba="0.752941176470588 0.752941176470588 0.752941176470588 1" />
            </material>
        </visual>
        <collision>
            <origin rpy="-0 0 -0" xyz="0 -0 0" />
            <geometry>
                <mesh filename="package://drchubo/meshes/convhull_RAR_merged.stl" />
            </geometry>
        </collision>
    </link>
    <link name="Body_RF21">
        <inertial>
            <origin rpy="-0 0 -0" xyz="4.0808242114456797E-06 0.010365457906814099 -0.022357214658374602" />
            <mass value="0.0209635645691505" />
            <inertia ixx="5.79877083007342E-06" ixy="3.6189665497296299e-09" ixz="2.45166522675331E-07" iyy="6.02432212425641E-06" iyz="-1.2116739475733400e-09" izz="1.78245355770108E-06" />
        </inertial>
        <visual>
            <origin rpy="-0 0 -0" xyz="0 -0 0" />
            <geometry>
                <mesh filename="package://drchubo/meshes/convhull_RF1.stl" />
            </geometry>
            <material name="">
                <color rgba="0.752941176470588 0.752941176470588 0.752941176470588 1" />
            </material>
        </visual>
        <collision>
            <origin rpy="-0 0 -0" xyz="0 -0 0" />
            <geometry>
                <mesh filename="package://drchubo/meshes/convhull_RF1.stl" />
            </geometry>
        </collision>
    </link>
    <link name="Body_RF22">
        <inertial>
            <origin rpy="-0 0 -0" xyz="0.00013094697176082399 -0.00022677183338540299 -0.0135375370531412" />
            <mass value="0.0121177256078384" />
            <inertia ixx="2.50372945957958E-06" ixy="2.3280589150823100e-09" ixz="5.14105106916585E-08" iyy="2.26813369660349E-06" iyz="4.9296412483752203e-09" izz="1.22101156825522E-06" />
        </inertial>
        <visual>
            <origin rpy="-0 0 -0" xyz="0 -0 0" />
            <geometry>
                <mesh filename="package://drchubo/meshes/convhull_RF2.stl" />
            </geometry>
            <material name="">
                <color rgba="0.752941176470588 0.752941176470588 0.752941176470588 1" />
            </material>
        </visual>
        <collision>
            <origin rpy="-0 0 -0" xyz="0 -0 0" />
            <geometry>
                <mesh filename="package://drchubo/meshes/convhull_RF2.stl" />
            </geometry>
        </collision>
    </link>
    <link name="Body_RF23">
        <inertial>
            <origin rpy="-0 0 -0" xyz="0.00016938613030157901 -0.00035689841965924602 -0.016316521975207599" />
            <mass value="0.0163435127658012" />
            <inertia ixx="2.35338373719888E-06" ixy="4.4210418009567002e-09" ixz="1.38024261681812E-07" iyy="2.40973096927305E-06" iyz="2.8221502007736200e-08" izz="9.69758896639509E-07" />
        </inertial>
        <visual>
            <origin rpy="-0 0 -0" xyz="0 -0 0" />
            <geometry>
                <mesh filename="package://drchubo/meshes/convhull_RF3.stl" />
            </geometry>
            <material name="">
                <color rgba="0.752941176470588 0.752941176470588 0.752941176470588 1" />
            </material>
        </visual>
        <collision>
            <origin rpy="-0 0 -0" xyz="0 -0 0" />
            <geometry>
                <mesh filename="package://drchubo/meshes/convhull_RF3.stl" />
            </geometry>
        </collision>
    </link>
    <link name="Body_RF31">
        <inertial>
            <origin rpy="-0 0 -0" xyz="4.0808242114456797E-06 0.010365457906814099 -0.022357214658374602" />
            <mass value="0.0209635645691505" />
            <inertia ixx="5.79877083007342E-06" ixy="3.6189665497296299e-09" ixz="2.45166522675331E-07" iyy="6.02432212425641E-06" iyz="-1.2116739475733400e-09" izz="1.78245355770108E-06" />
        </inertial>
        <visual>
            <origin rpy="-0 0 -0" xyz="0 -0 0" />
            <geometry>
                <mesh filename="package://drchubo/meshes/convhull_RF1.stl" />
            </geometry>
            <material name="">
                <color rgba="0.752941176470588 0.752941176470588 0.752941176470588 1" />
            </material>
        </visual>
        <collision>
            <origin rpy="-0 0 -0" xyz="0 -0 0" />
            <geometry>
                <mesh filename="package://drchubo/meshes/convhull_RF1.stl" />
            </geometry>
        </collision>
    </link>
    <link name="Body_RF32">
        <inertial>
            <origin rpy="-0 0 -0" xyz="0.00013094697176082399 -0.00022677183338540299 -0.0135375370531412" />
            <mass value="0.0121177256078384" />
            <inertia ixx="2.50372945957958E-06" ixy="2.3280589150823100e-09" ixz="5.14105106916585E-08" iyy="2.26813369660349E-06" iyz="4.9296412483752203e-09" izz="1.22101156825522E-06" />
        </inertial>
        <visual>
            <origin rpy="-0 0 -0" xyz="0 -0 0" />
            <geometry>
                <mesh filename="package://drchubo/meshes/convhull_RF2.stl" />
            </geometry>
            <material name="">
                <color rgba="0.752941176470588 0.752941176470588 0.752941176470588 1" />
            </material>
        </visual>
        <collision>
            <origin rpy="-0 0 -0" xyz="0 -0 0" />
            <geometry>
                <mesh filename="package://drchubo/meshes/convhull_RF2.stl" />
            </geometry>
        </collision>
    </link>
    <link name="Body_RF33">
        <inertial>
            <origin rpy="-0 0 -0" xyz="0.00016938613030157901 -0.00035689841965924602 -0.016316521975207599" />
            <mass value="0.0163435127658012" />
            <inertia ixx="2.35338373719888E-06" ixy="4.4210418009567002e-09" ixz="1.38024261681812E-07" iyy="2.40973096927305E-06" iyz="2.8221502007736200e-08" izz="9.69758896639509E-07" />
        </inertial>
        <visual>
            <origin rpy="-0 0 -0" xyz="0 -0 0" />
            <geometry>
                <mesh filename="package://drchubo/meshes/convhull_RF3.stl" />
            </geometry>
            <material name="">
                <color rgba="0.752941176470588 0.752941176470588 0.752941176470588 1" />
            </material>
        </visual>
        <collision>
            <origin rpy="-0 0 -0" xyz="0 -0 0" />
            <geometry>
                <mesh filename="package://drchubo/meshes/convhull_RF3.stl" />
            </geometry>
        </collision>
    </link>

    <link name="Body_RF41">
        <inertial>
            <origin rpy="-0 0 -0" xyz="4.0808242114456797E-06 0.010365457906814099 -0.022357214658374602" />
            <mass value="0.0209635645691505" />
            <inertia ixx="5.79877083007342E-06" ixy="3.6189665497296299e-09" ixz="2.45166522675331E-07" iyy="6.02432212425641E-06" iyz="-1.2116739475733400e-09" izz="1.78245355770108E-06" />
        </inertial>
        <visual>
            <origin rpy="-0 0 -0" xyz="0 -0 0" />
            <geometry>
                <mesh filename="package://drchubo/meshes/convhull_RF1.stl" />
            </geometry>
            <material name="">
                <color rgba="0.752941176470588 0.752941176470588 0.752941176470588 1" />
            </material>
        </visual>
        <collision>
            <origin rpy="-0 0 -0" xyz="0 -0 0" />
            <geometry>
                <mesh filename="package://drchubo/meshes/convhull_RF1.stl" />
            </geometry>
        </collision>
    </link>
    <link name="Body_RF42">
        <inertial>
            <origin rpy="-0 0 -0" xyz="0.00013094697176082399 -0.00022677183338540299 -0.0135375370531412" />
            <mass value="0.0121177256078384" />
            <inertia ixx="2.50372945957958E-06" ixy="2.3280589150823100e-09" ixz="5.14105106916585E-08" iyy="2.26813369660349E-06" iyz="4.9296412483752203e-09" izz="1.22101156825522E-06" />
        </inertial>
        <visual>
            <origin rpy="-0 0 -0" xyz="0 -0 0" />
            <geometry>
                <mesh filename="package://drchubo/meshes/convhull_RF2.stl" />
            </geometry>
            <material name="">
                <color rgba="0.752941176470588 0.752941176470588 0.752941176470588 1" />
            </material>
        </visual>
        <collision>
            <origin rpy="-0 0 -0" xyz="0 -0 0" />
            <geometry>
                <mesh filename="package://drchubo/meshes/convhull_RF2.stl" />
            </geometry>
        </collision>
    </link>
    <link name="Body_RF43">
        <inertial>
            <origin rpy="-0 0 -0" xyz="0.00016938613030157901 -0.00035689841965924602 -0.016316521975207599" />
            <mass value="0.0163435127658012" />
            <inertia ixx="2.35338373719888E-06" ixy="4.4210418009567002e-09" ixz="1.38024261681812E-07" iyy="2.40973096927305E-06" iyz="2.8221502007736200e-08" izz="9.69758896639509E-07" />
        </inertial>
        <visual>
            <origin rpy="-0 0 -0" xyz="0 -0 0" />
            <geometry>
                <mesh filename="package://drchubo/meshes/convhull_RF3.stl" />
            </geometry>
            <material name="">
                <color rgba="0.752941176470588 0.752941176470588 0.752941176470588 1" />
            </material>
        </visual>
        <collision>
            <origin rpy="-0 0 -0" xyz="0 -0 0" />
            <geometry>
                <mesh filename="package://drchubo/meshes/convhull_RF3.stl" />
            </geometry>
        </collision>
    </link>
    <joint name="RSP" type="revolute">
        <origin rpy="-0 0 -0" xyz="0.0010 -0.1305 0.2061" />
        <parent link="Body_Torso" />
        <child link="Body_RSP" />
        <axis xyz="0 1 0" />
        <limit effort="100.0" lower="-3.14" upper="3.14" velocity="10.0" />
    </joint>
    <joint name="RSR" type="revolute">
        <origin rpy="-0 0 -0" xyz="0.0330 -0.0990 0" />
        <parent link="Body_RSP" />
        <child link="Body_RSR" />
        <axis xyz="1 0 0" />
        <limit effort="100.0" lower="-3.14" upper="0.262" velocity="10.0" />
    </joint>
    <joint name="RSY" type="revolute">
        <origin rpy="-0 0 -0" xyz="-0.0330 -0 -0.0270" />
        <parent link="Body_RSR" />
        <child link="Body_RSY" />
        <axis xyz="0 0 1" />
        <limit effort="100.0" lower="-3.14" upper="2.0" velocity="10.0" />
    </joint>
    <joint name="REP" type="revolute">
        <origin rpy="-0 0 -0" xyz="0.0300 0 -0.2730" />
        <parent link="Body_RSY" />
        <child link="Body_REP" />
        <axis xyz="0 1 0" />
        <limit effort="100.0" lower="-2.96" upper=".2" velocity="10.0" />
    </joint>
    <joint name="RWY" type="revolute">
        <origin rpy="-0 0 0" xyz="-0.0300 0 -0.0520" />
        <parent link="Body_REP" />
        <child link="Body_RWY" />
        <axis xyz="0 0 1" />
        <limit effort="100.0" lower="-3.14" upper="3.14" velocity="10.0" />
    </joint>
    <joint name="RWP" type="revolute">
        <origin rpy="-0 0 -0" xyz="0 -0 -0.2618" />
        <parent link="Body_RWY" />
        <child link="Body_RWP" />
        <axis xyz="0 1 0" />
        <limit effort="100.0" lower="-3.14" upper="3.14" velocity="10.0" />
    </joint>
    <joint name="RWR" type="revolute">
        <origin rpy="-0 0 -1.57079632679" xyz="0 -0 -0.0275" />
        <parent link="Body_RWP" />
        <child link="Body_RWR" />
        <axis xyz="0 0 1" />
        <limit effort="100.0" lower="-3.14" upper="3.14" velocity="10.0" />
    </joint>
    <joint name="RF11" type="revolute">
        <origin rpy="-0 0 -0" xyz="0.0230 0.0120 -0.0755" />
        <parent link="Body_RWR" />
        <child link="Body_RF11" />
        <axis xyz="0 1 0" />
        <limit effort="10.0" lower="-1.5" upper=".1" velocity="2.0" />
    </joint>
    <joint name="RF12" type="revolute">
        <origin rpy="-0 0 -0" xyz="-0.0020 0.0105 -0.0420" />
        <parent link="Body_RF11" />
        <child link="Body_RF12" />
        <axis xyz="0 1 0" />
        <limit effort="10.0" lower="-1.5" upper=".1" velocity="2.0" />
    </joint>
    <joint name="RF13" type="revolute">
        <origin rpy="-0 0 -0" xyz="-0.0014 -0 -0.0300" />
        <parent link="Body_RF12" />
        <child link="Body_RF13" />
        <axis xyz="0 1 0" />
        <limit effort="10.0" lower="-1.5" upper=".1" velocity="2.0" />
    </joint>
    <joint name="RHY" type="revolute">
        <origin rpy="-0 0 -0" xyz="0 -0.0885 -0.0230" />
        <parent link="Body_TSY" />
        <child link="Body_RHY" />
        <axis xyz="0 0 1" />
        <limit effort="100.0" lower="-1.92" upper="1.92" velocity="10.0" />
    </joint>
    <joint name="RHR" type="revolute">
        <origin rpy="-0 0 -0" xyz="0 -0 -0.1410" />
        <parent link="Body_RHY" />
        <child link="Body_RHR" />
        <axis xyz="1 0 0" />
        <limit effort="100.0" lower="-0.52" upper="0.52" velocity="10.0" />
    </joint>
    <joint name="RHP" type="revolute">
        <origin rpy="-0 0 -0" xyz="0 -0 0" />
        <parent link="Body_RHR" />
        <child link="Body_RHP" />
        <axis xyz="0 1 0" />
        <limit effort="100.0" lower="-1.87" upper="1.61" velocity="10.0" />
    </joint>
    <joint name="RKP" type="revolute">
        <origin rpy="-0 0 -0" xyz="0 -0 -0.3299" />
        <parent link="Body_RHP" />
        <child link="Body_RKP" />
        <axis xyz="0 1 0" />
        <limit effort="100.0" lower="-0.07" upper="2.61" velocity="10.0" />
    </joint>
    <joint name="RAP" type="revolute">
        <origin rpy="-0 0 -0" xyz="0 -0 -0.3300" />
        <parent link="Body_RKP" />
        <child link="Body_RAP" />
        <axis xyz="0 1 0" />
        <limit effort="100.0" lower="-1.7" upper="1.7" velocity="10.0" />
    </joint>
    <joint name="RAR" type="revolute">
        <origin rpy="-0 0 -0" xyz="0 -0 0" />
        <parent link="Body_RAP" />
        <child link="Body_RAR" />
        <axis xyz="1 0 0" />
        <limit effort="100.0" lower="-1.57" upper="1.57" velocity="10.0" />
    </joint>
    <joint name="RF21" type="revolute">
        <origin rpy="-0 0 -0" xyz="0.0230 -0.0330 -0.0755" />
        <parent link="Body_RWR" />
        <child link="Body_RF21" />
        <axis xyz="0 1 0" />
        <limit effort="10.0" lower="-1.5" upper=".1" velocity="2.0" />
    </joint>
    <joint name="RF22" type="revolute">
        <origin rpy="-0 0 -0" xyz="-0.0020 0.0105 -0.0420" />
        <parent link="Body_RF21" />
        <child link="Body_RF22" />
        <axis xyz="0 1 0" />
        <limit effort="10.0" lower="-1.5" upper=".1" velocity="2.0" />
    </joint>
    <joint name="RF23" type="revolute">
        <origin rpy="-0 0 -0" xyz="-0.0014 -0 -0.0300" />
        <parent link="Body_RF22" />
        <child link="Body_RF23" />
        <axis xyz="0 1 0" />
        <limit effort="10.0" lower="-1.5" upper=".1" velocity="2.0" />
    </joint>

    <joint name="RF31" type="revolute">
        <origin rpy="-0 0 -3.141592653589" xyz="-0.023 0.0105 -0.0755" />
        <parent link="Body_RWR" />
        <child link="Body_RF31" />
        <axis xyz="0 -1 0" />
        <limit effort="10.0" lower="-1.5" upper=".1" velocity="2.0" />
    </joint>
    <joint name="RF32" type="revolute">
        <origin rpy="0 0 0" xyz="-0.0020 0.0105 -0.0420" />
        <parent link="Body_RF31" />
        <child link="Body_RF32" />
        <axis xyz="0 -1 0" />
        <limit effort="10.0" lower="-1.5" upper=".1" velocity="2.0" />
    </joint>
    <joint name="RF33" type="revolute">
        <origin rpy="-0 0 -0" xyz="-0.0014 -0 -0.0300" />
        <parent link="Body_RF32" />
        <child link="Body_RF33" />
        <axis xyz="0 -1 0" />
        <limit effort="10.0" lower="-1.5" upper=".1" velocity="2.0" />
    </joint>
    <joint name="RF41" type="revolute">
        <origin rpy="-0 0 -3.141592653589" xyz="-0.0230 0.0555 -0.0755" />
        <parent link="Body_RWR" />
        <child link="Body_RF41" />
        <axis xyz="0 -1 0" />
        <limit effort="10.0" lower="-1.5" upper=".1" velocity="2.0" />
    </joint>
    <joint name="RF42" type="revolute">
        <origin rpy="-0 0 -0" xyz="-0.002 0.0105 -0.0420" />
        <parent link="Body_RF41" />
        <child link="Body_RF42" />
        <axis xyz="0 -1 0" />
        <limit effort="10.0" lower="-1.5" upper=".1" velocity="2.0" />
    </joint>
    <joint name="RF43" type="revolute">
        <origin rpy="-0 0 -0" xyz="-0.0014 -0 -0.0300" />
        <parent link="Body_RF42" />
        <child link="Body_RF43" />
        <axis xyz="0 -1 0" />
        <limit effort="10.0" lower="-1.5" upper=".1" velocity="2.0" />
    </joint>
</robot>
